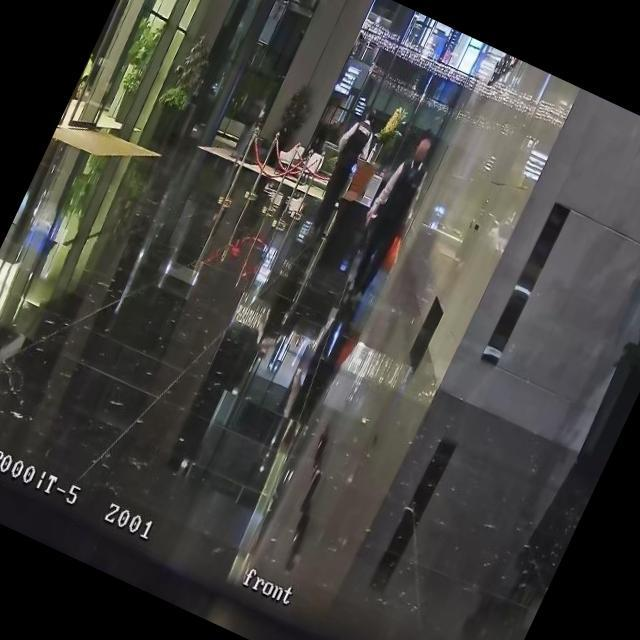person: (330, 123, 450, 313), (302, 100, 388, 236)
